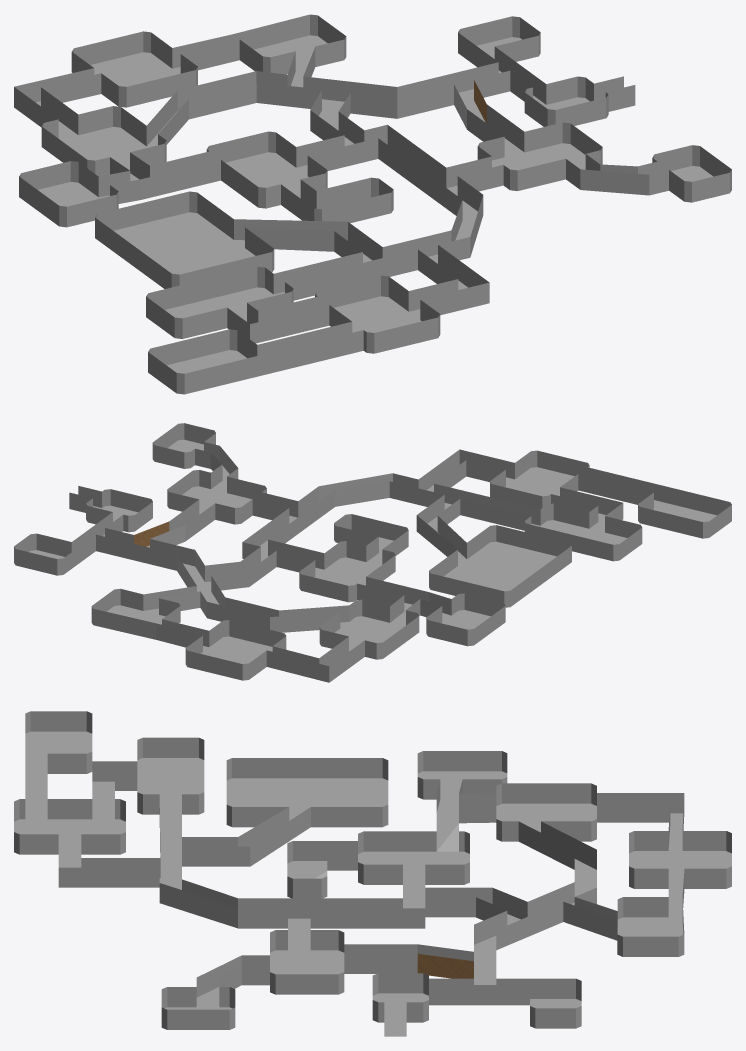
Rendered from CaveMapFin.fbx.
3 renders of one model, top to bottom at view 1: azimuth 30°, elevation 25°; view 2: azimuth 150°, elevation 25°; view 3: azimuth 270°, elevation 25°, orthographic. The views are drawn at different scales.
Parts seen in each view (by area): view 1: Walls_H_4, Walls_H_2, Walls_H_3, Walls_H_1, Walls_R_14, Walls_H_5, Ground_R_9, Walls_R_12, Walls_R_13, Walls_R_6, Walls_R_11, Walls_H_6 (+23 smaller); view 2: Walls_H_4, Walls_H_2, Walls_H_3, Walls_H_1, Walls_R_14, Walls_H_5, Ground_R_9, Walls_R_12, Walls_R_6, Walls_R_13, Walls_R_8, Walls_R_11 (+22 smaller); view 3: Walls_H_2, Walls_H_3, Walls_H_4, Walls_H_1, Walls_R_14, Ground_R_9, Walls_R_8, Walls_R_6, Walls_R_7, Walls_R_11, Ground_R_12, Walls_R_10 (+28 smaller).
Boxes of the visible parts, <box> form: Walls_H_4: <box>234,219,489,315</box>; Walls_H_2: <box>146,47,397,145</box>; Walls_H_3: <box>296,124,503,256</box>; Walls_H_1: <box>397,46,546,151</box>; Walls_R_14: <box>95,191,274,288</box>; Walls_H_5: <box>227,296,363,373</box>; Ground_R_9: <box>113,212,255,274</box>; Walls_R_12: <box>146,266,293,338</box>; Walls_R_13: <box>148,329,268,394</box>; Walls_R_6: <box>71,31,197,107</box>; Walls_R_11: <box>315,275,440,353</box>; Walls_H_6: <box>98,151,220,203</box>; Walls_H_4: <box>389,449,540,558</box>; Walls_H_2: <box>143,547,349,632</box>; Walls_H_3: <box>242,473,392,572</box>; Walls_H_1: <box>71,500,215,570</box>; Walls_R_14: <box>429,525,571,607</box>; Walls_H_5: <box>551,467,662,528</box>; Ground_R_9: <box>444,541,556,591</box>; Walls_R_12: <box>524,503,642,561</box>; Walls_R_6: <box>185,620,286,680</box>; Walls_R_13: <box>638,485,731,538</box>; Walls_R_8: <box>299,541,395,602</box>; Walls_R_11: <box>490,450,589,509</box>; Walls_H_2: <box>425,821,617,950</box>; Walls_H_3: <box>159,879,425,928</box>; Walls_H_4: <box>58,807,310,887</box>; Walls_H_1: <box>344,944,529,1005</box>; Walls_R_14: <box>226,758,388,827</box>; Ground_R_9: <box>226,778,388,820</box>; Walls_R_8: <box>358,831,469,884</box>; Walls_R_6: <box>629,831,731,888</box>; Walls_R_7: <box>496,783,596,841</box>; Walls_R_11: <box>14,799,125,854</box>; Ground_R_12: <box>137,758,204,814</box>; Walls_R_10: <box>417,751,507,799</box>.
Bounding box in the file's own units: 64.47 × 2 × 64.08.
Materials: 3 (1 with a texture image).
